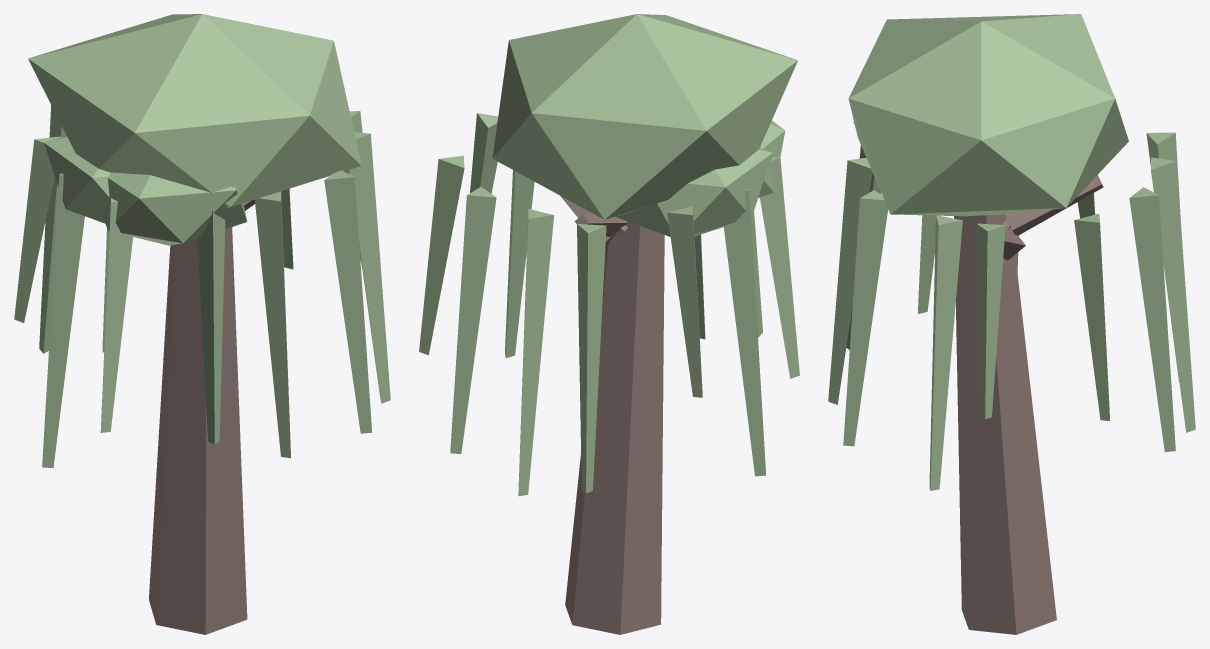
Rendered from arv_salgueiro_4_sem_textura.glb.
3 renders of one model, left to right at view 1: azimuth 30°, elevation 25°; view 2: azimuth 150°, elevation 25°; view 3: azimuth 270°, elevation 25°, orthographic. The views are drawn at different scales.
Visible parts, largest first — view 1: arv_salgueiro_4; view 2: arv_salgueiro_4; view 3: arv_salgueiro_4.
Boxes of the visible parts, box(x1,y1,x2,y2) form: arv_salgueiro_4: box(14, 14, 390, 634); arv_salgueiro_4: box(419, 14, 799, 634); arv_salgueiro_4: box(828, 14, 1195, 634).
Bounding box in the file's own units: 0.8466 × 1.52 × 0.8578.
